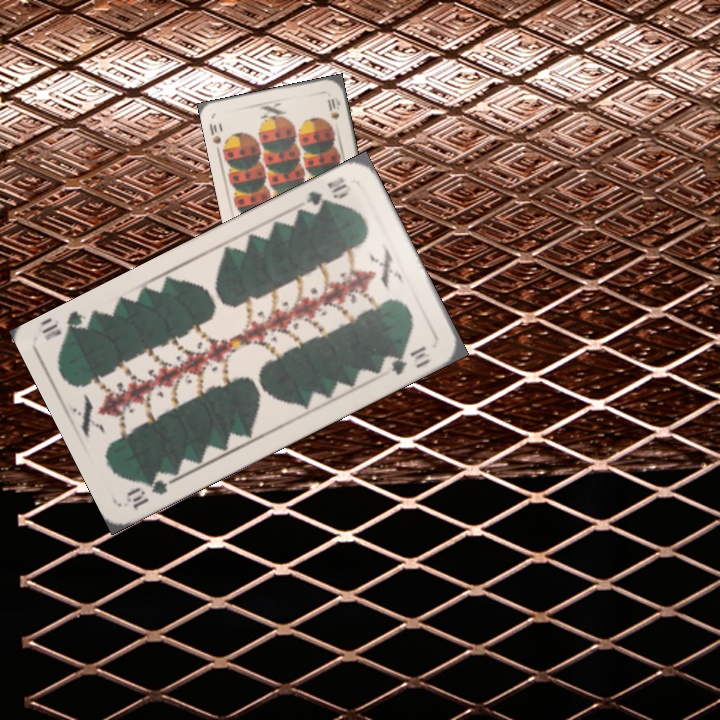G10: (122, 468, 178, 513), (301, 172, 354, 213)
S10: (205, 120, 224, 147)
